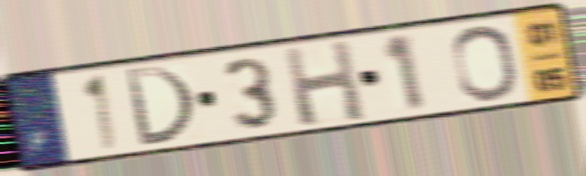1: (381, 31, 429, 115), (81, 68, 120, 155)
3: (220, 54, 280, 132)
D: (121, 64, 199, 149)
H: (280, 36, 370, 130)
O: (448, 22, 522, 104)
